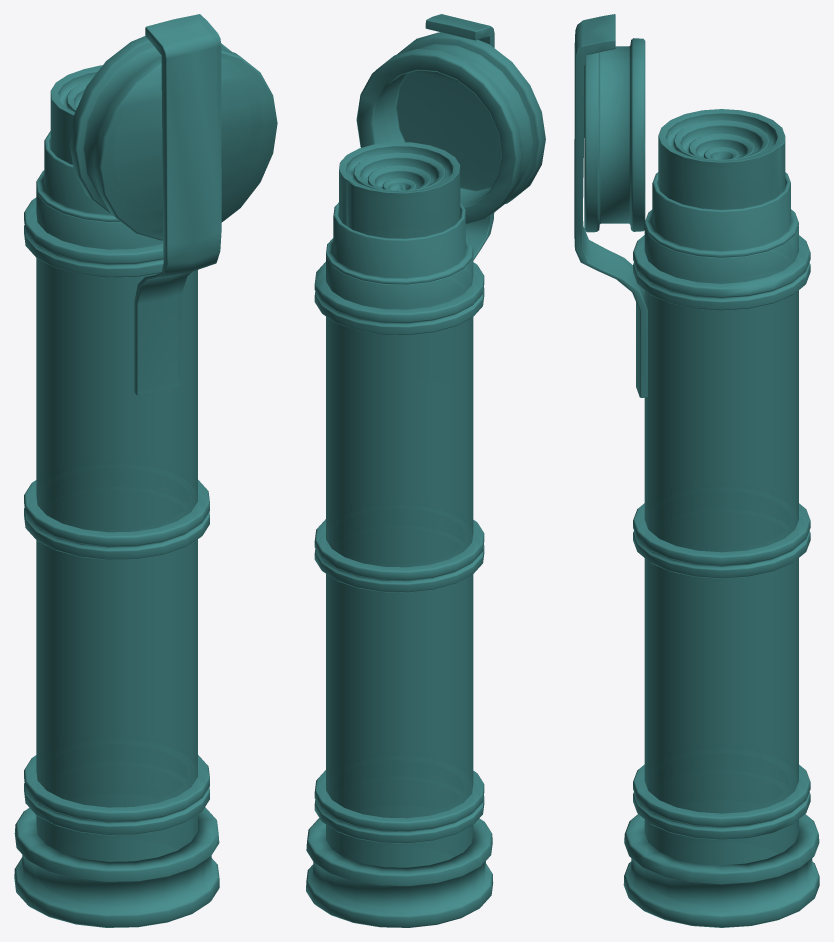
The model's file is SM_Scroll_03_Unity.fbx.
3 views of the same model, side by side, from view 1: azimuth 30°, elevation 25°; view 2: azimuth 150°, elevation 25°; view 3: azimuth 270°, elevation 25° (orthographic). The views are drawn at different scales.
Parts seen in each view (by area): view 1: SM_Scrolls_03; view 2: SM_Scrolls_03; view 3: SM_Scrolls_03.
Boxes of the visible parts, <box> form: SM_Scrolls_03: <box>14,14,277,927</box>; SM_Scrolls_03: <box>306,14,545,927</box>; SM_Scrolls_03: <box>574,14,819,927</box>.
Size of the model in its own units: 16.3 by 79.06 by 20.42.
